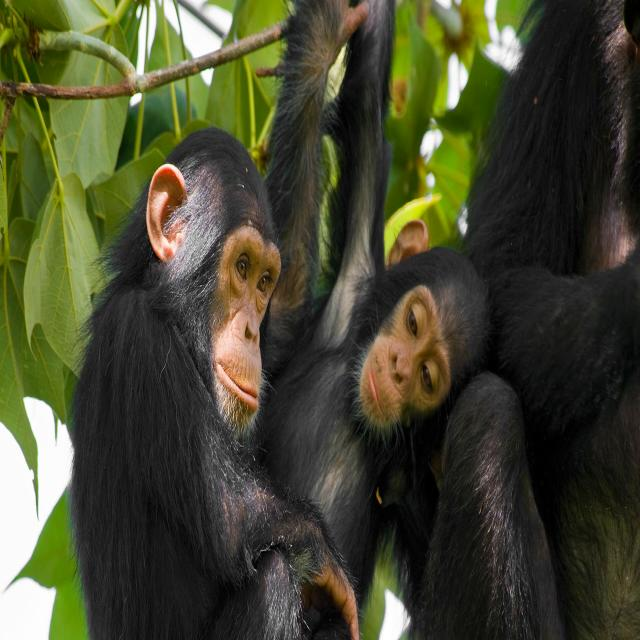chimpanzee: (69, 0, 371, 639), (261, 0, 487, 612)
